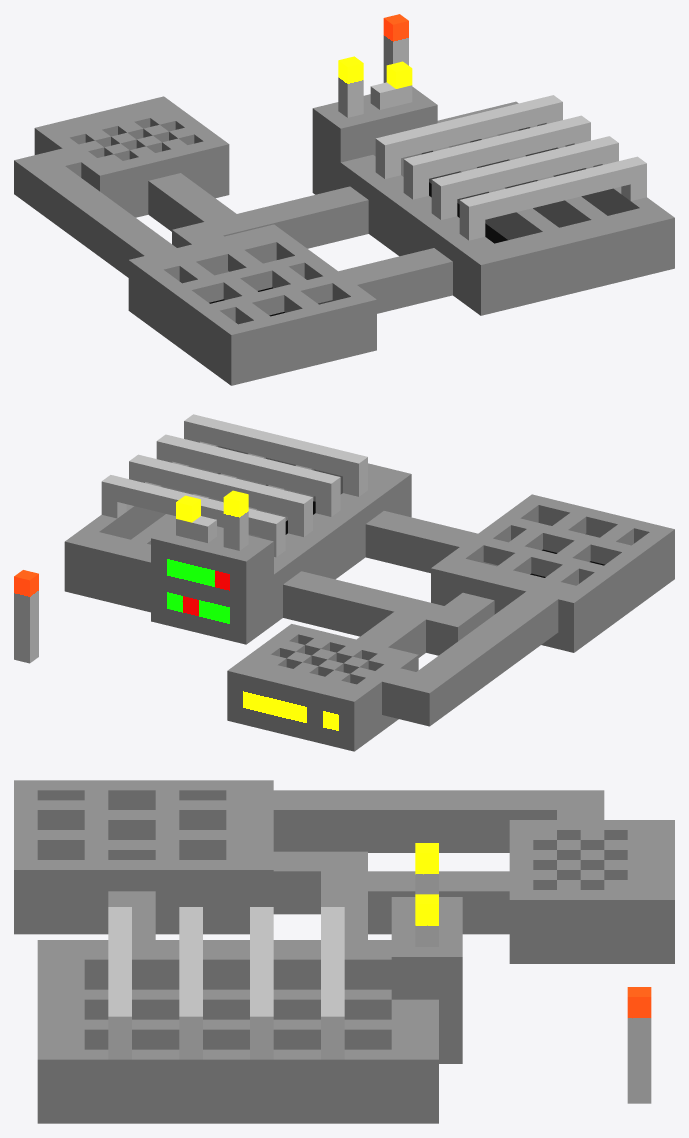
The model's file is wenty_wersja_jakaś_tam.dae.
3 views of the same model, one above another, from view 1: azimuth 30°, elevation 25°; view 2: azimuth 150°, elevation 25°; view 3: azimuth 270°, elevation 25° (orthographic). The views are drawn at different scales.
Visible parts, largest first — view 1: Content; view 2: Content; view 3: Content.
Boxes of the visible parts, x1,y1,x2,y2 form: Content: (14, 14, 674, 385); Content: (14, 414, 674, 751); Content: (14, 780, 674, 1123).
Size of the model in its own units: 28 by 8 by 28.
Materials: 1 (1 with a texture image).
